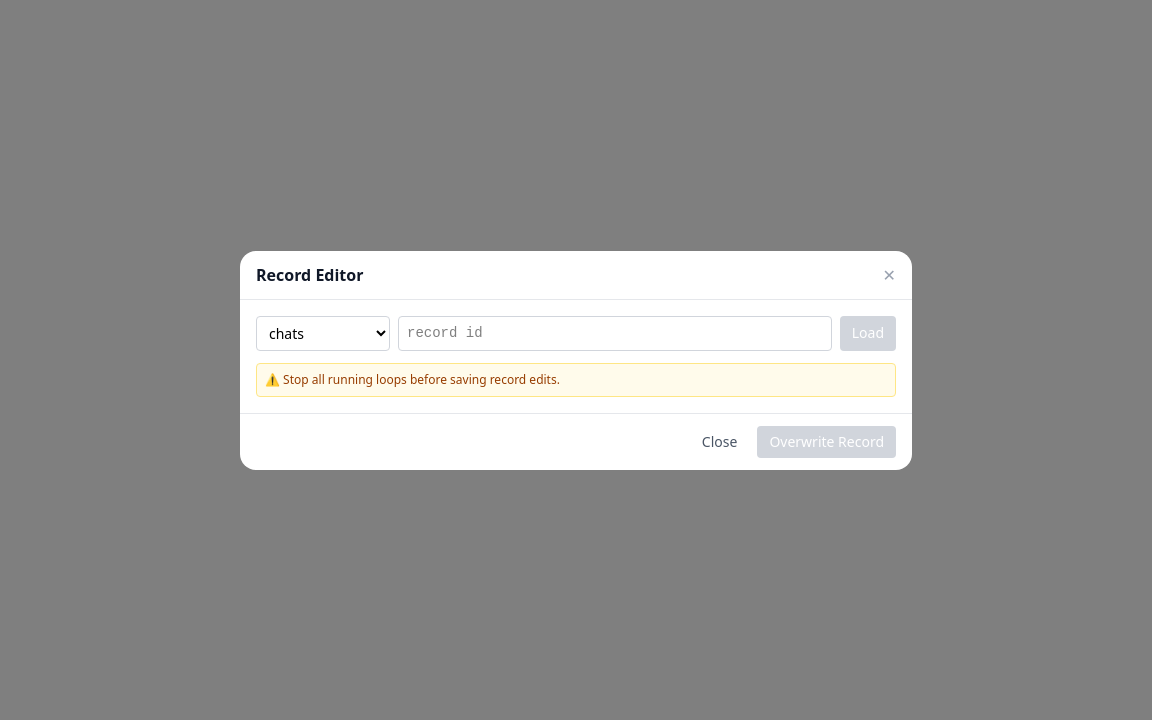
AdminRecordEditorModal › blocks saving while loops are running
In the field with placeholder "record id": (615, 333) [398,316,832,350], type "chat_1"
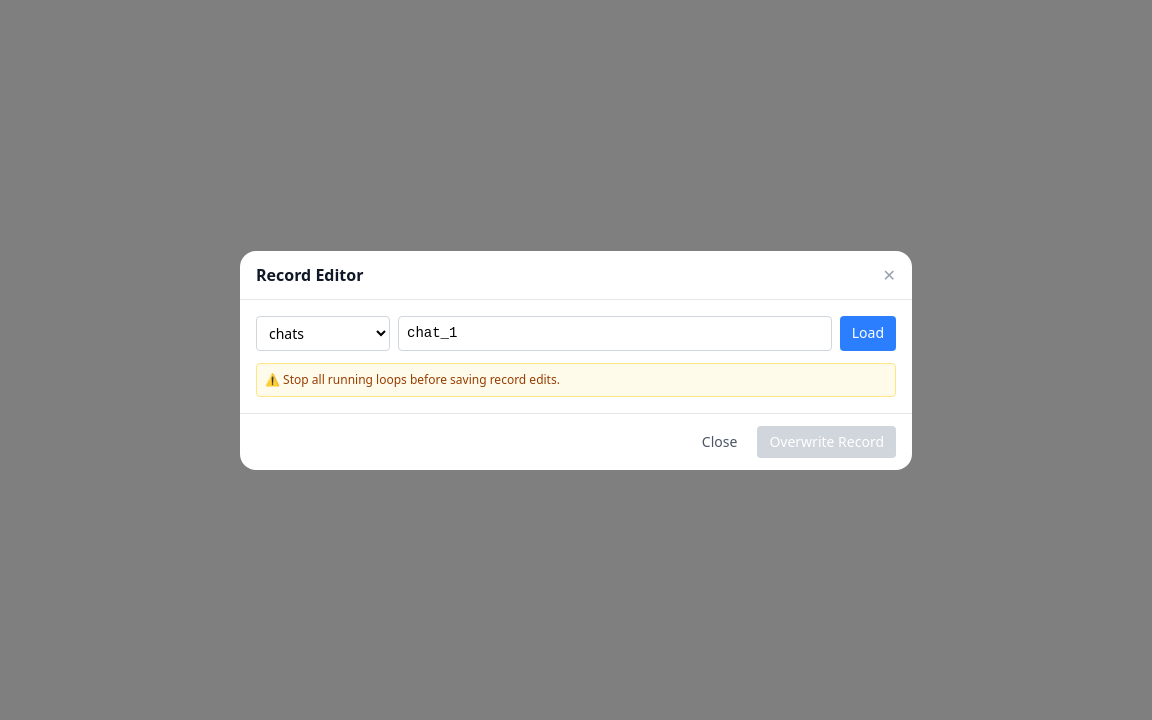
Click the button "Load": (868, 333) [840,316,896,350]
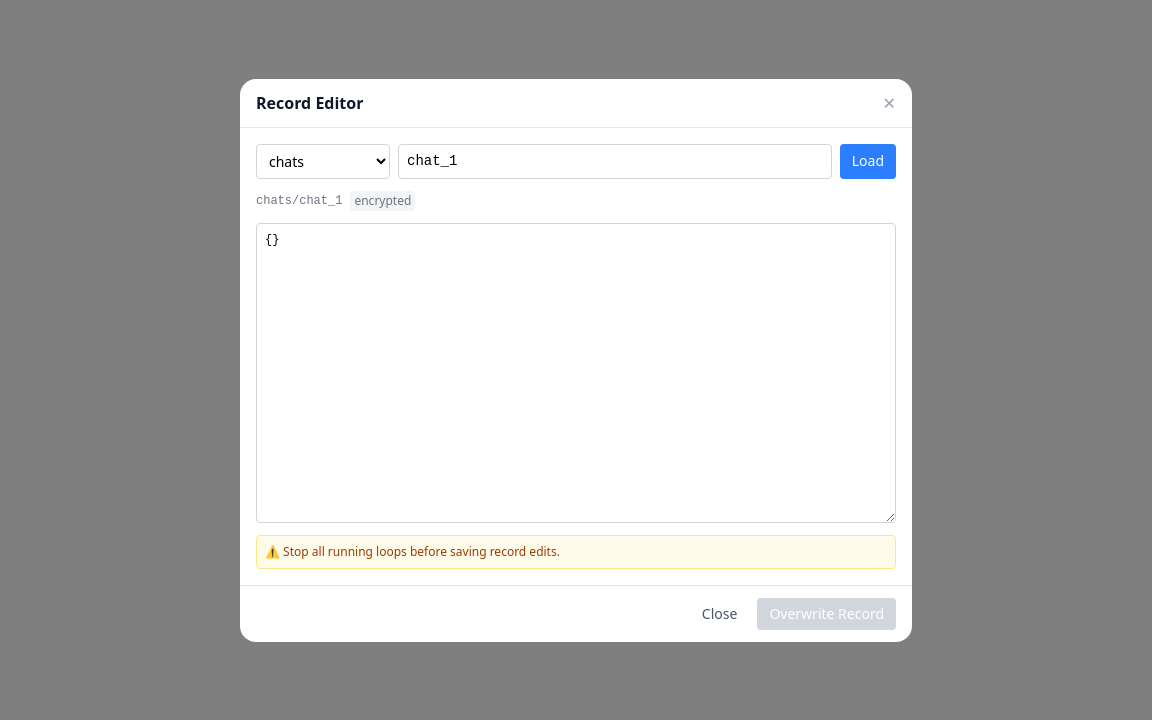
expect the button "Overwrite Record" is disabled: met, box [757,598,896,630]
expect the text box is shown: met, box [256,222,896,522]
